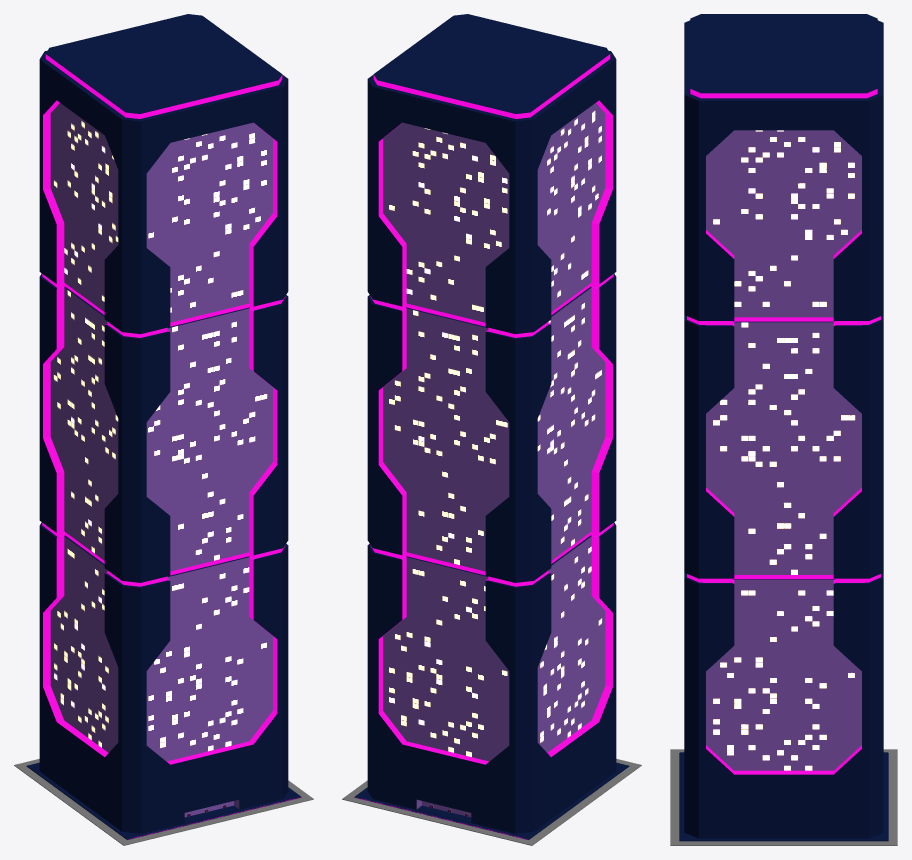
Rendered from Bina 11.fbx.
3 views of the same model, side by side, from view 1: azimuth 30°, elevation 25°; view 2: azimuth 150°, elevation 25°; view 3: azimuth 270°, elevation 25° (orthographic). The views are drawn at different scales.
Parts seen in each view (by area): view 1: Octagon_1, OctagonStand_1; view 2: Octagon_1, OctagonStand_1; view 3: Octagon_1, OctagonStand_1.
Part boxes in pixels (x1=…): Octagon_1: x1=39, y1=14, x2=288, y2=833; OctagonStand_1: x1=14, y1=759, x2=313, y2=845; Octagon_1: x1=367, y1=14, x2=616, y2=833; OctagonStand_1: x1=342, y1=759, x2=641, y2=845; Octagon_1: x1=684, y1=14, x2=883, y2=838; OctagonStand_1: x1=670, y1=749, x2=897, y2=845.
Bounding box in the file's own units: 51.39 × 186 × 51.39.
3 materials, 3 textured.
